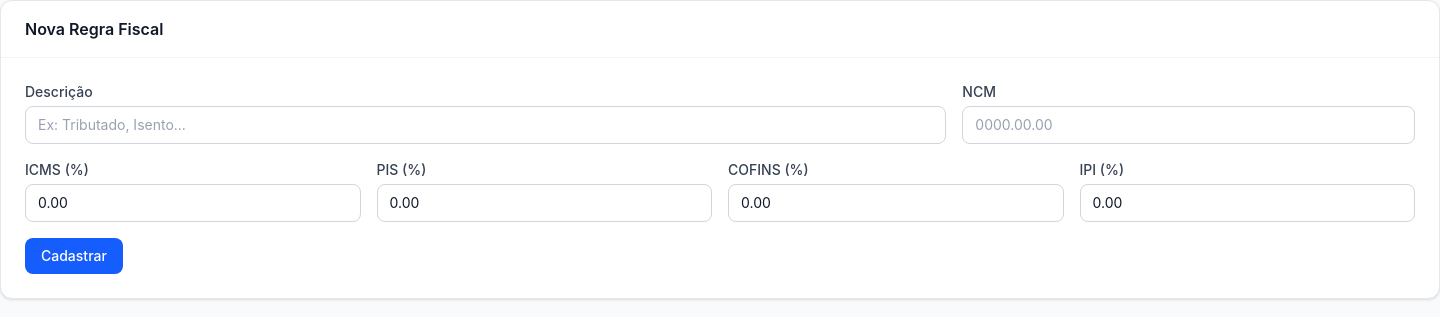
Scenario: RegraFiscalForm › should mask the NCM field while typing
Type "12345678" into the field labelled "NCM" at [1189, 125], box [962,106,1415,144]
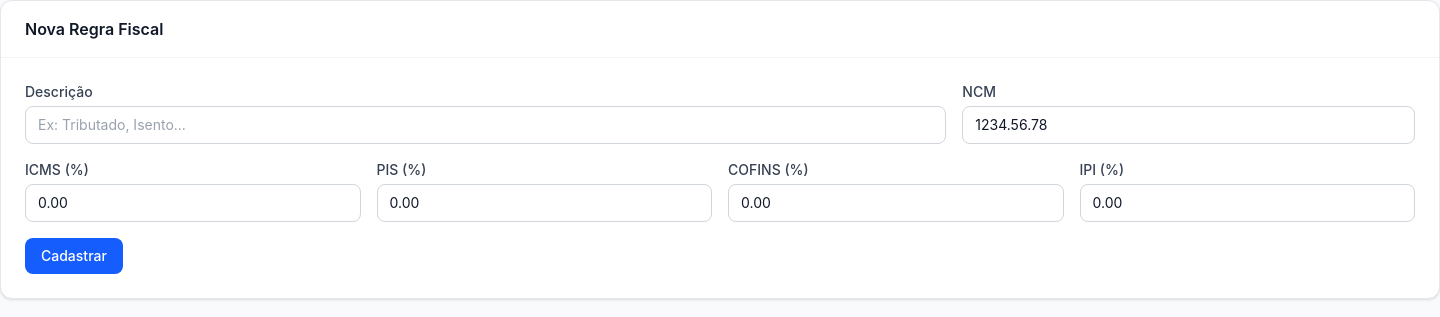
Check: the field labelled "NCM" holds "1234.56.78", box [962,106,1415,144]
